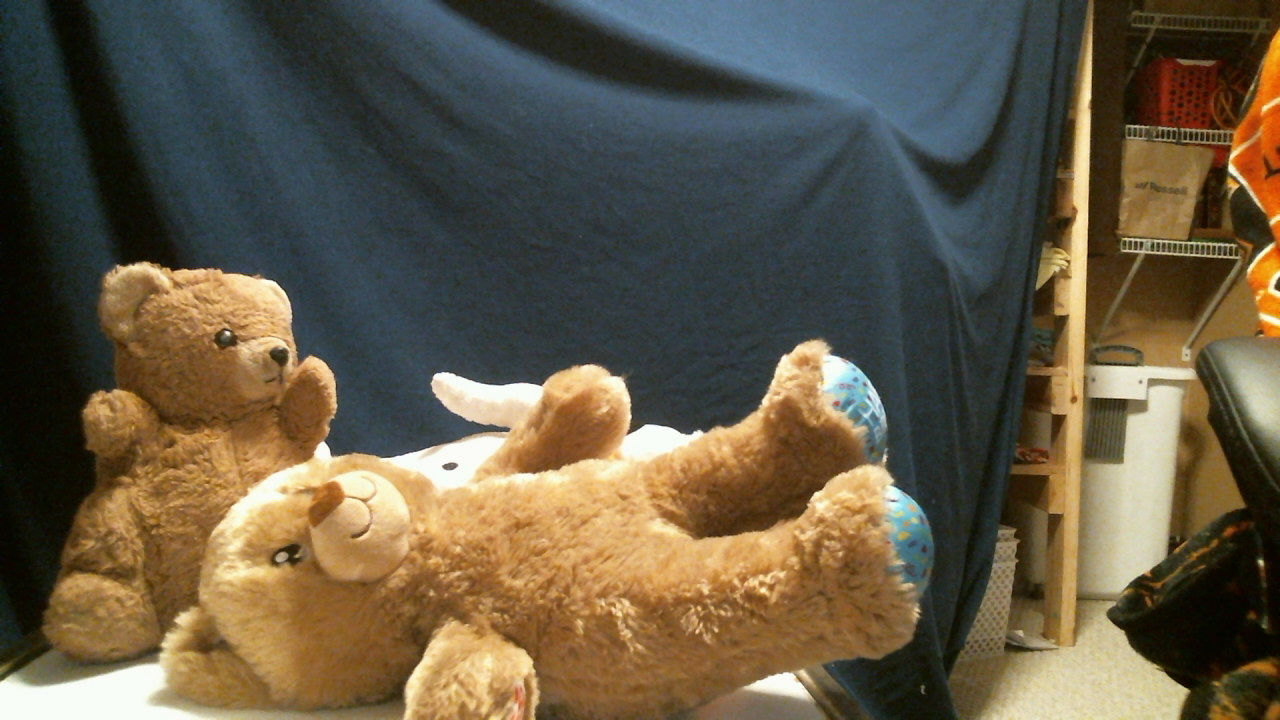Little_Mister_Bear: (195, 327, 297, 400)
